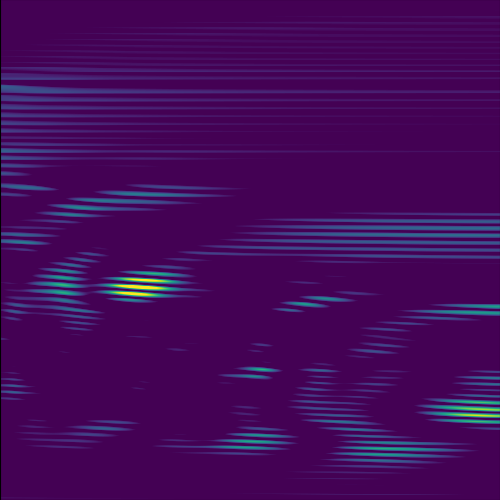semblance: (99, 271, 196, 304), (422, 395, 500, 431)
